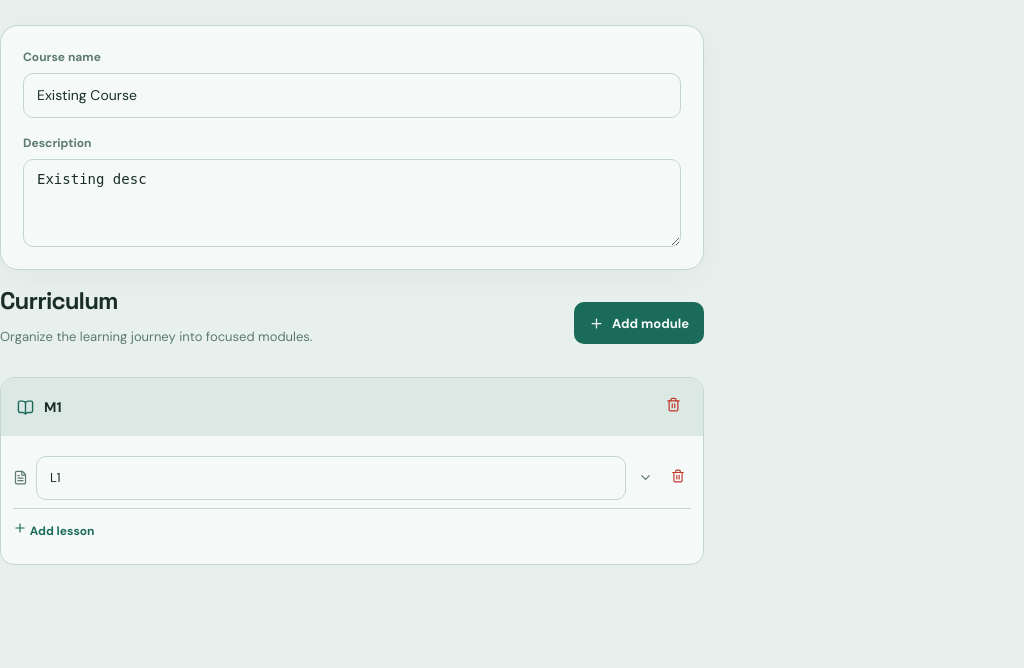
Scenario: CourseManagementPage › CourseEditor - save and publish › lists existing lesson media in edit mode
Expected: the field showing "L1" is shown, left=36, top=456, right=626, bottom=500
Click the button named "Toggle content for lesson 1": {"x": 646, "y": 478} left=634, top=466, right=657, bottom=489
(page scrolled)
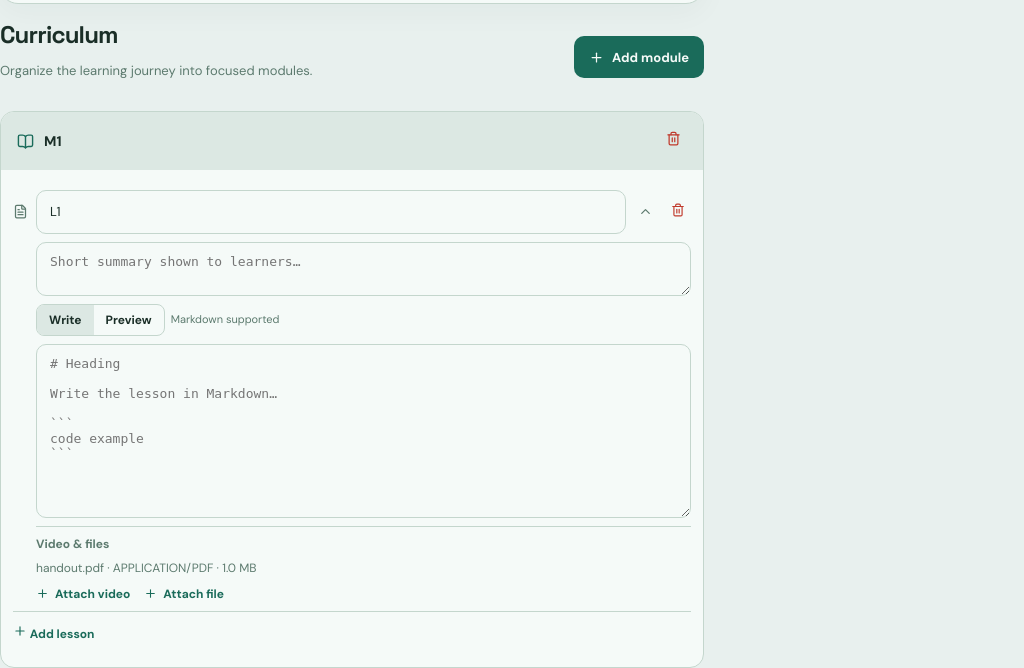
Expected: the list item "handout.pdf · APPLICATION/PDF · 1.0 MB" is shown, left=36, top=560, right=256, bottom=576
